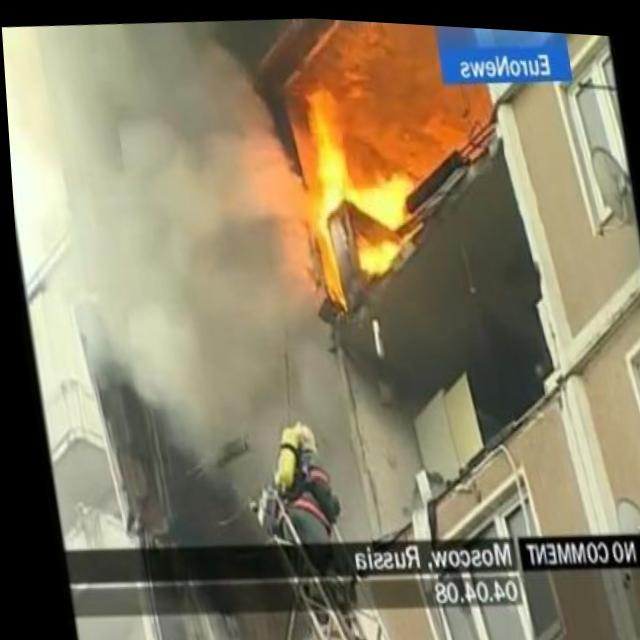fire: (295, 108, 422, 273)
